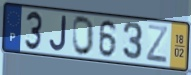3: (121, 21, 145, 62), (24, 10, 44, 52)
6: (98, 19, 118, 59)
J: (48, 14, 68, 53)
O: (72, 15, 95, 58)
Z: (145, 23, 169, 65)
